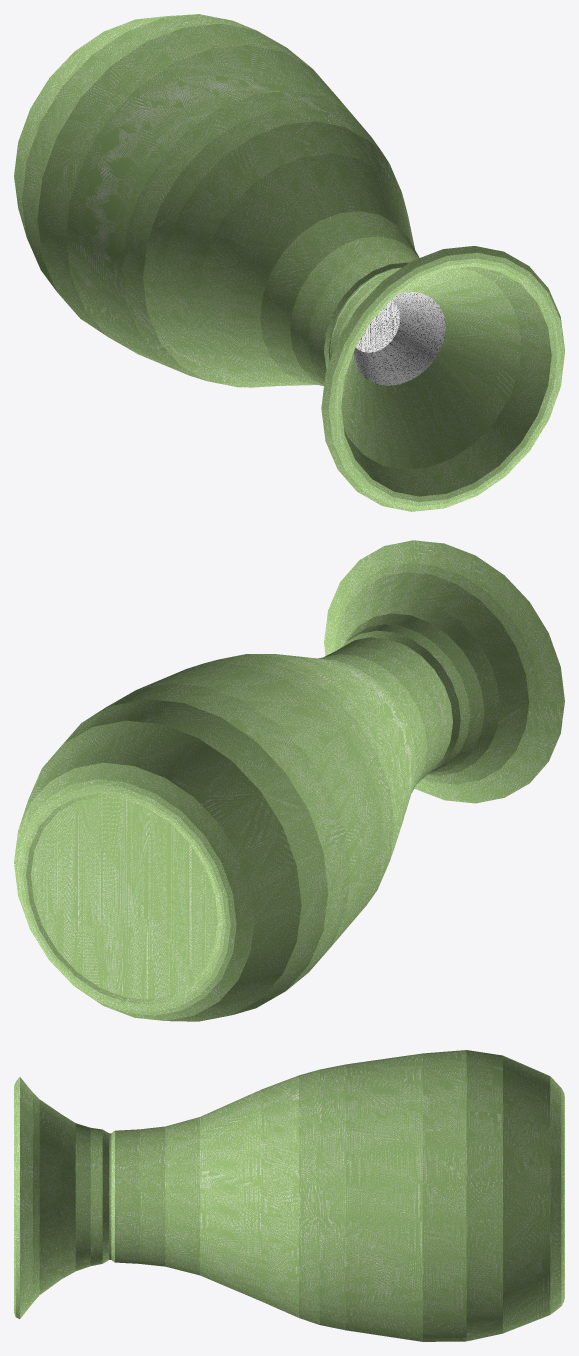
Rendered from model_align.obj.
3 renders of one model, top to bottom at view 1: azimuth 30°, elevation 25°; view 2: azimuth 150°, elevation 25°; view 3: azimuth 270°, elevation 25°, orthographic. The views are drawn at different scales.
Visible parts, largest first — view 1: mesh1_mesh1-geometry; view 2: mesh1_mesh1-geometry; view 3: mesh1_mesh1-geometry.
Boxes of the visible parts, bbox=[...] form: mesh1_mesh1-geometry: bbox=[14, 14, 564, 511]; mesh1_mesh1-geometry: bbox=[14, 540, 564, 1021]; mesh1_mesh1-geometry: bbox=[14, 1050, 564, 1341].
Bounding box in the file's own units: 0.0712 × 0.0725 × 0.1361.
